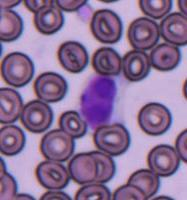M: (76, 74, 128, 130)
